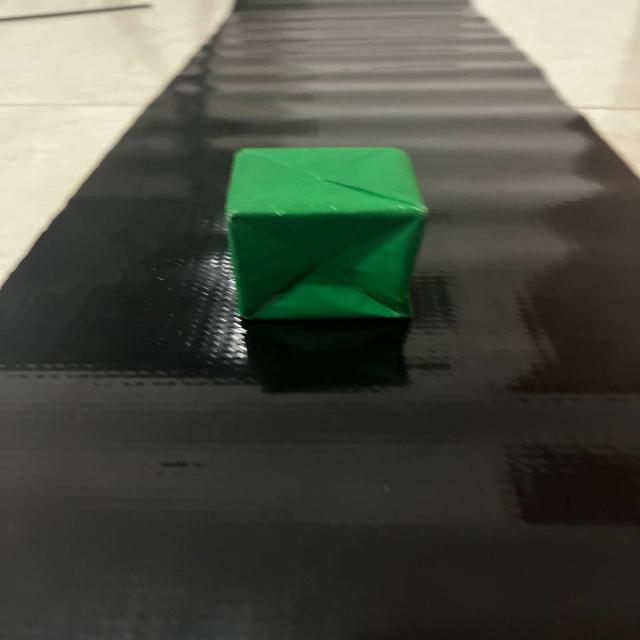Verde: (200, 131, 470, 341)
